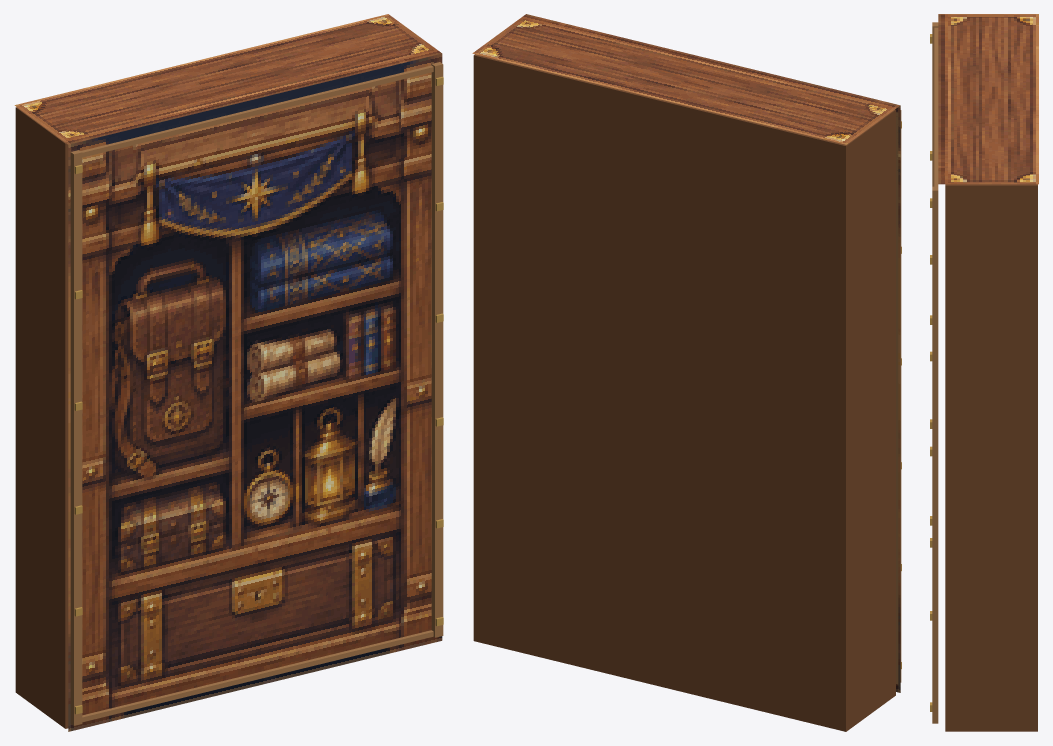
The model's file is travel-cabinet.glb.
The picture shows the model from 3 angles, left to right: view 1: azimuth 30°, elevation 25°; view 2: azimuth 150°, elevation 25°; view 3: azimuth 270°, elevation 25°; orthographic projection. The views are drawn at different scales.
Visible parts, largest first — view 1: Painted front.002, Carcass.002, Painted top.002; view 2: Carcass.002, Painted top.002, Painted front.002; view 3: Carcass.002, Painted top.002.
Part boxes in pixels (bbox=[...]): Painted front.002: bbox=[68, 53, 442, 731]; Carcass.002: bbox=[15, 62, 443, 728]; Painted top.002: bbox=[14, 14, 441, 144]; Carcass.002: bbox=[473, 54, 901, 731]; Painted top.002: bbox=[472, 14, 899, 144]; Painted front.002: bbox=[895, 105, 900, 692]; Carcass.002: bbox=[930, 22, 1037, 731]; Painted top.002: bbox=[938, 14, 1038, 184].
Size of the model in its own units: 2 by 3 by 0.541.
4 materials, 1 textured.
